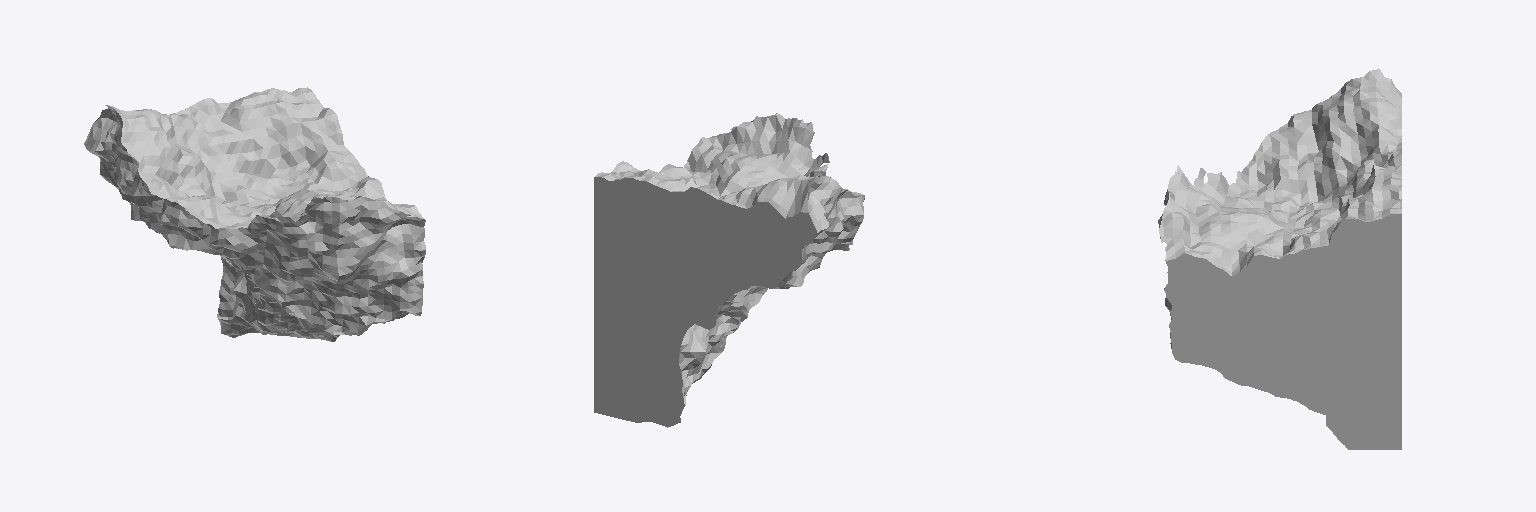
Rendered from cube_20_seed_4_shard.011.obj.
The picture shows the model from 3 angles: view 1: azimuth 30°, elevation 25°; view 2: azimuth 150°, elevation 25°; view 3: azimuth 270°, elevation 25°; orthographic projection.
Visible parts, largest first — view 1: Cube_shard.011_Cube_shard.111; view 2: Cube_shard.011_Cube_shard.111; view 3: Cube_shard.011_Cube_shard.111.
Part boxes in pixels (x1,y1,x2,y2): Cube_shard.011_Cube_shard.111: (84,87,425,341); Cube_shard.011_Cube_shard.111: (594,113,864,427); Cube_shard.011_Cube_shard.111: (1158,68,1401,449).
Size of the model in its own units: 1.32 by 1.57 by 1.24.